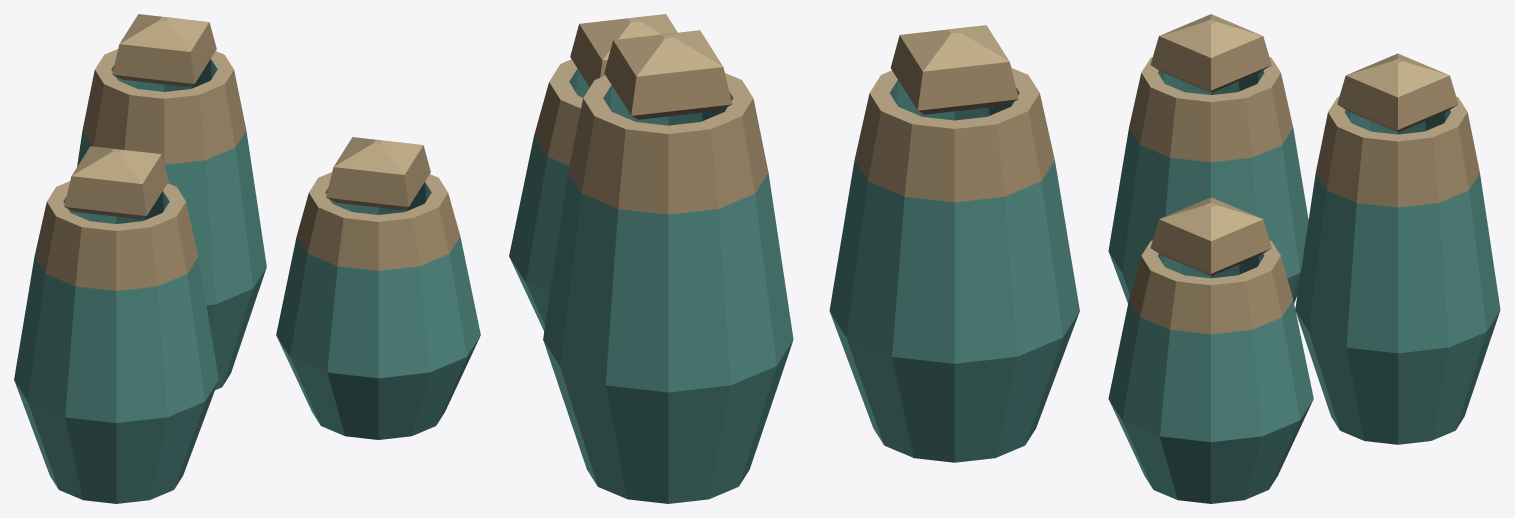
File: canopic-jars.glb
3 views of the same model, side by side, from view 1: azimuth 30°, elevation 25°; view 2: azimuth 150°, elevation 25°; view 3: azimuth 270°, elevation 25° (orthographic). The views are drawn at different scales.
Parts seen in each view (by area): view 1: canopic-jars__body; view 2: canopic-jars__body; view 3: canopic-jars__body.
Boxes of the visible parts, x1,y1,x2,y2 form: canopic-jars__body: (14,14,480,503); canopic-jars__body: (509,14,1079,503); canopic-jars__body: (1108,14,1500,503).
Bounding box in the file's own units: 1.09 × 0.84 × 0.84.
